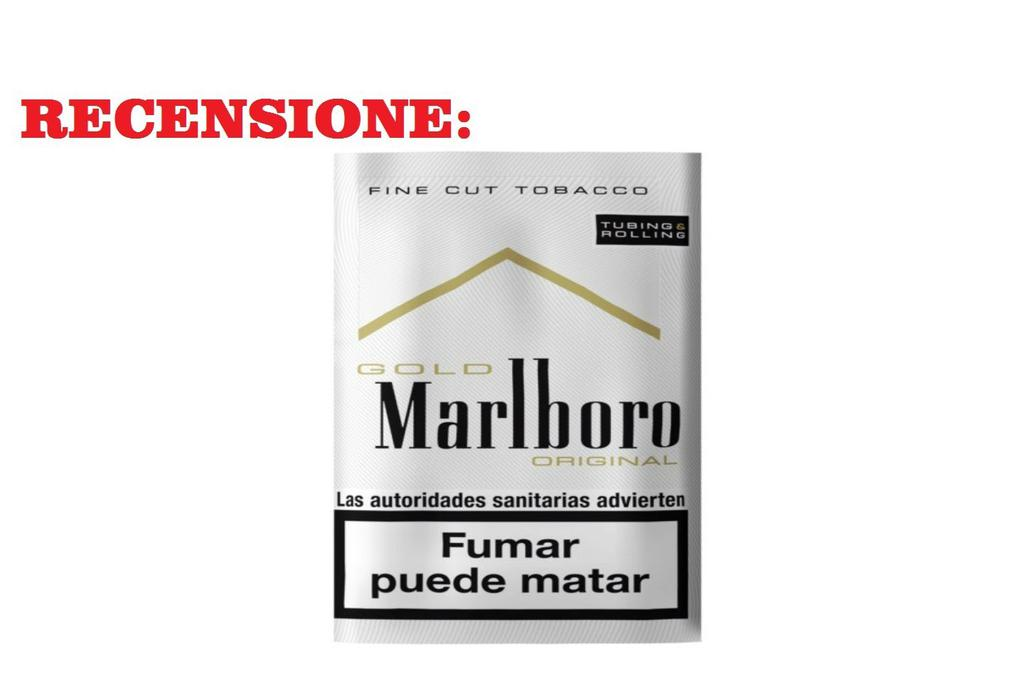marlboro_gold: (329, 156, 693, 628)
